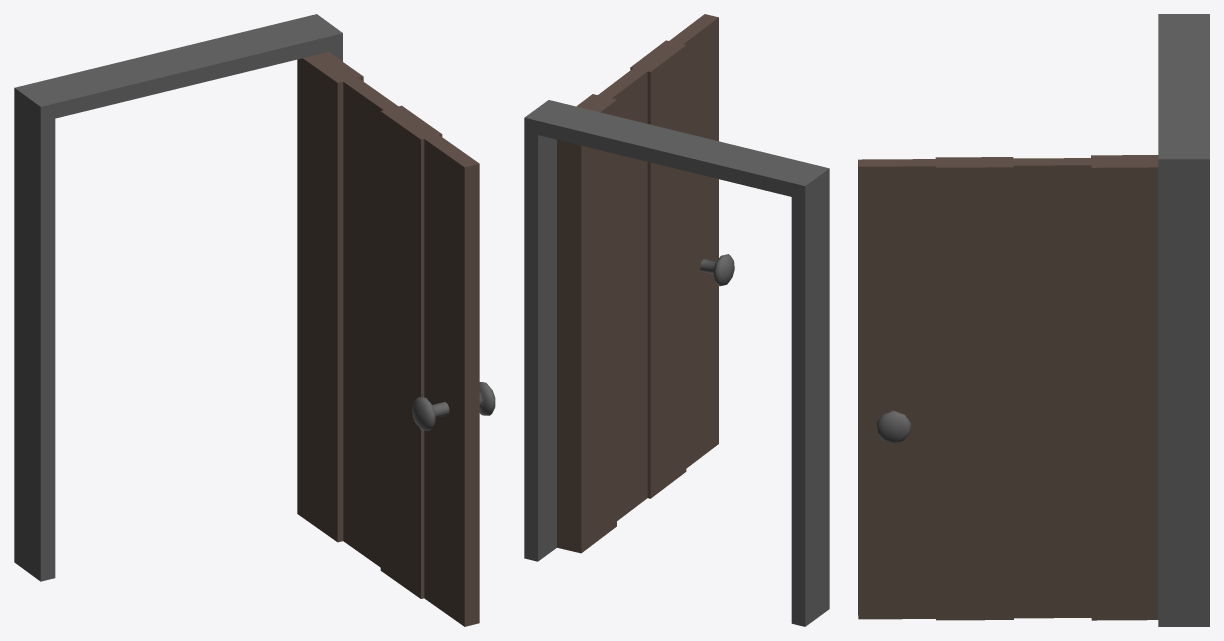
The model's file is Door-Open.fbx.
3 renders of one model, left to right at view 1: azimuth 30°, elevation 25°; view 2: azimuth 150°, elevation 25°; view 3: azimuth 270°, elevation 25°, orthographic. The views are drawn at different scales.
Parts seen in each view (by area): view 1: Open; view 2: Open; view 3: Open.
Part boxes in pixels (<box>): Open: <box>14,14,495,626</box>; Open: <box>524,14,829,626</box>; Open: <box>858,14,1209,626</box>.
Size of the model in its own units: 209 by 205 by 300.
